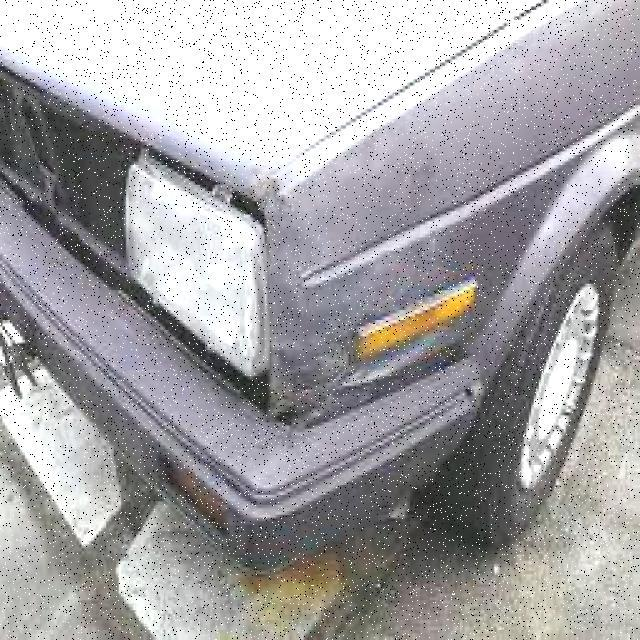car damage: (231, 136, 464, 426)
